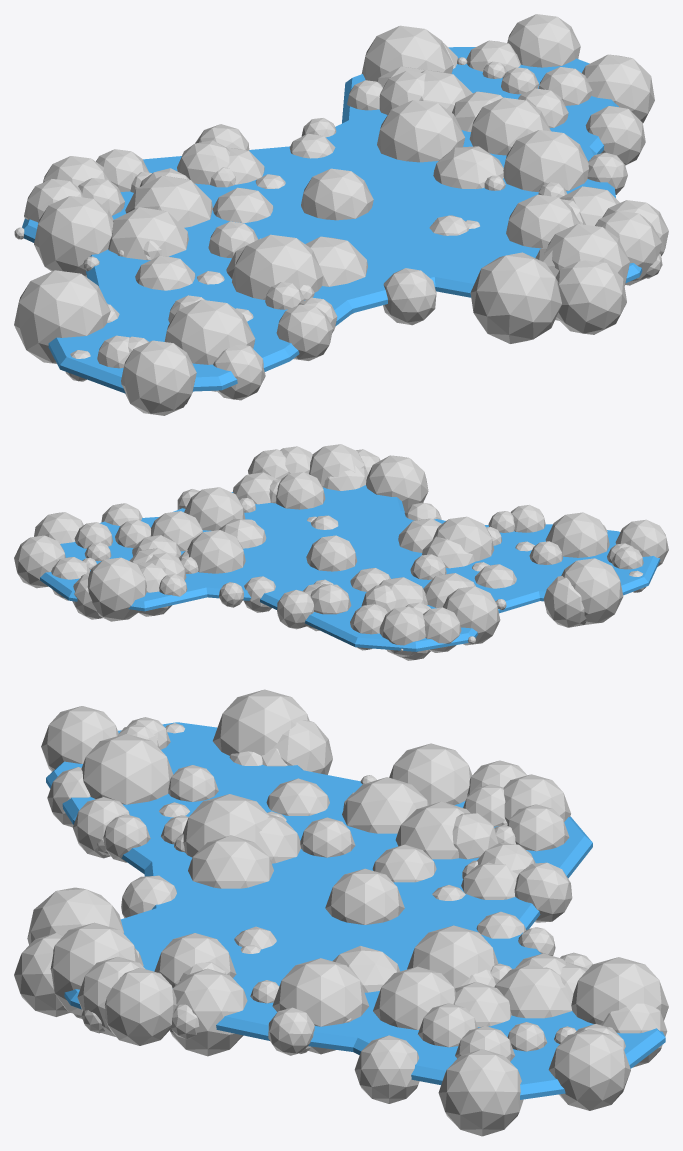
Rendered from sapone_ui.fbx.
The picture shows the model from 3 angles, top to bottom: view 1: azimuth 30°, elevation 25°; view 2: azimuth 150°, elevation 25°; view 3: azimuth 270°, elevation 25°; orthographic projection. The views are drawn at different scales.
Parts seen in each view (by area): view 1: Sapone, Sapone|Icosphere.001|Dupli|271, Sapone|Icosphere.001|Dupli|196, Sapone|Icosphere.001|Dupli|166, Sapone|Icosphere|Dupli|231, Sapone|Icosphere.001|Dupli|76, Sapone|Icosphere.001|Dupli|214, Sapone|Icosphere.001|Dupli|139, Sapone|Icosphere.001|Dupli|133, Sapone|Icosphere.001|Dupli|244, Sapone|Icosphere.001|Dupli|175, Sapone|Icosphere.001|Dupli|79 (+39 smaller); view 2: Sapone, Sapone|Icosphere.001|Dupli|175, Sapone|Icosphere.001|Dupli|196, Sapone|Icosphere.001|Dupli|271, Sapone|Icosphere.001|Dupli|244, Sapone|Icosphere.001|Dupli|166, Sapone|Icosphere.001|Dupli|214, Sapone|Icosphere.001|Dupli|133, Sapone|Icosphere.001|Dupli|256, Sapone|Icosphere.001|Dupli|139, Sapone|Icosphere.001|Dupli|253, Sapone|Icosphere.001|Dupli|265 (+40 smaller); view 3: Sapone, Sapone|Icosphere.001|Dupli|79, Sapone|Icosphere.001|Dupli|244, Sapone|Icosphere.001|Dupli|256, Sapone|Icosphere.001|Dupli|133, Sapone|Icosphere|Dupli|183, Sapone|Icosphere.001|Dupli|175, Sapone|Icosphere.001|Dupli|196, Sapone|Icosphere.001|Dupli|28, Sapone|Icosphere.001|Dupli|142, Sapone|Icosphere.001|Dupli|166, Sapone|Icosphere.001|Dupli|199 (+42 smaller).
Part boxes in pixels (<box>): Sapone: <box>22,47,642,393</box>; Sapone|Icosphere.001|Dupli|271: <box>470,252,561,343</box>; Sapone|Icosphere.001|Dupli|196: <box>14,270,110,363</box>; Sapone|Icosphere.001|Dupli|166: <box>34,196,113,277</box>; Sapone|Icosphere|Dupli|231: <box>121,340,196,415</box>; Sapone|Icosphere.001|Dupli|76: <box>555,260,626,334</box>; Sapone|Icosphere.001|Dupli|214: <box>377,100,464,162</box>; Sapone|Icosphere.001|Dupli|139: <box>232,234,322,299</box>; Sapone|Icosphere.001|Dupli|133: <box>503,130,588,191</box>; Sapone|Icosphere.001|Dupli|244: <box>164,299,255,391</box>; Sapone|Icosphere.001|Dupli|175: <box>361,25,453,81</box>; Sapone|Icosphere.001|Dupli|79: <box>582,54,654,122</box>; Sapone: <box>40,485,660,651</box>; Sapone|Icosphere.001|Dupli|175: <box>87,557,146,621</box>; Sapone|Icosphere.001|Dupli|196: <box>561,558,623,624</box>; Sapone|Icosphere.001|Dupli|271: <box>366,455,428,511</box>; Sapone|Icosphere.001|Dupli|244: <box>545,512,609,557</box>; Sapone|Icosphere.001|Dupli|166: <box>443,586,500,645</box>; Sapone|Icosphere.001|Dupli|214: <box>187,530,245,573</box>; Sapone|Icosphere.001|Dupli|133: <box>184,487,245,530</box>; Sapone|Icosphere.001|Dupli|256: <box>14,535,65,588</box>; Sapone|Icosphere.001|Dupli|139: <box>432,516,494,561</box>; Sapone|Icosphere.001|Dupli|253: <box>379,606,425,657</box>; Sapone|Icosphere.001|Dupli|265: <box>543,576,586,627</box>; Sapone: <box>46,722,665,1099</box>; Sapone|Icosphere.001|Dupli|79: <box>438,1049,523,1136</box>; Sapone|Icosphere.001|Dupli|244: <box>81,733,173,804</box>; Sapone|Icosphere.001|Dupli|256: <box>548,1029,630,1110</box>; Sapone|Icosphere.001|Dupli|133: <box>272,958,369,1054</box>; Sapone|Icosphere|Dupli|183: <box>104,967,176,1045</box>; Sapone|Icosphere.001|Dupli|175: <box>571,957,668,1024</box>; Sapone|Icosphere.001|Dupli|196: <box>213,689,309,755</box>; Sapone|Icosphere.001|Dupli|28: <box>170,968,247,1056</box>; Sapone|Icosphere.001|Dupli|142: <box>50,922,140,1015</box>; Sapone|Icosphere.001|Dupli|166: <box>389,743,472,805</box>; Sapone|Icosphere.001|Dupli|199: <box>373,966,455,1029</box>.
Size of the model in its own units: 49.9 by 6.11 by 36.27.
